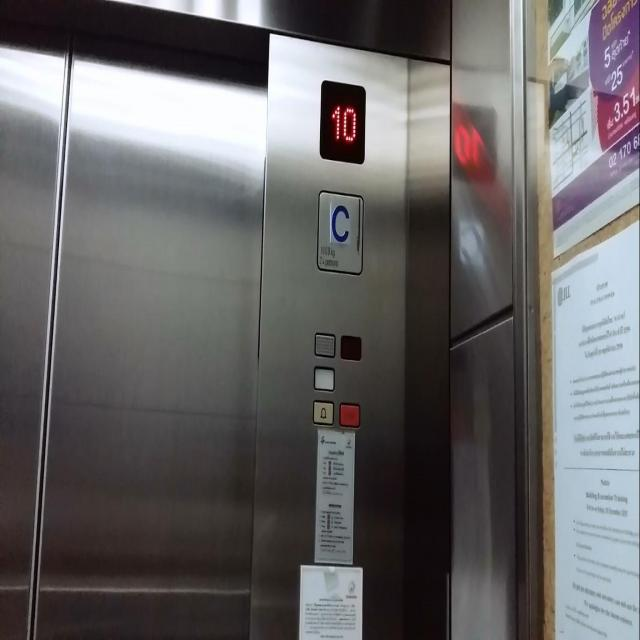alarm: (312, 396, 334, 426)
empty: (312, 362, 336, 392), (338, 399, 362, 428), (339, 332, 362, 361)
led: (318, 77, 367, 165)
speaker: (313, 328, 336, 358)
